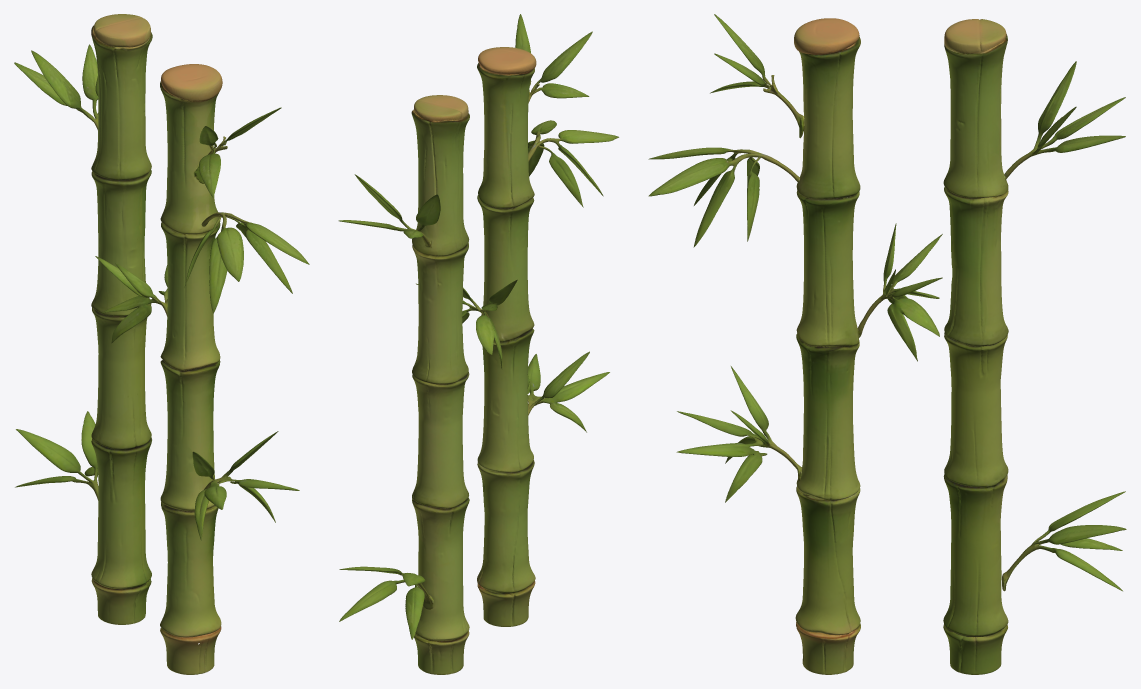
The model's file is bamboo-raw.glb.
3 views of the same model, side by side, from view 1: azimuth 30°, elevation 25°; view 2: azimuth 150°, elevation 25°; view 3: azimuth 270°, elevation 25° (orthographic). The views are drawn at different scales.
Visible parts, largest first — view 1: tripo_node_2be29000-737a-407a-acc1-b252554aac44; view 2: tripo_node_2be29000-737a-407a-acc1-b252554aac44; view 3: tripo_node_2be29000-737a-407a-acc1-b252554aac44.
Part boxes in pixels (box(x1,y1,x2,y2)): tripo_node_2be29000-737a-407a-acc1-b252554aac44: box(14, 14, 309, 674); tripo_node_2be29000-737a-407a-acc1-b252554aac44: box(338, 14, 618, 674); tripo_node_2be29000-737a-407a-acc1-b252554aac44: box(648, 14, 1126, 674).
Size of the model in its own units: 0.1523 by 0.9784 by 0.668.
Materials: 1 (1 with a texture image).
